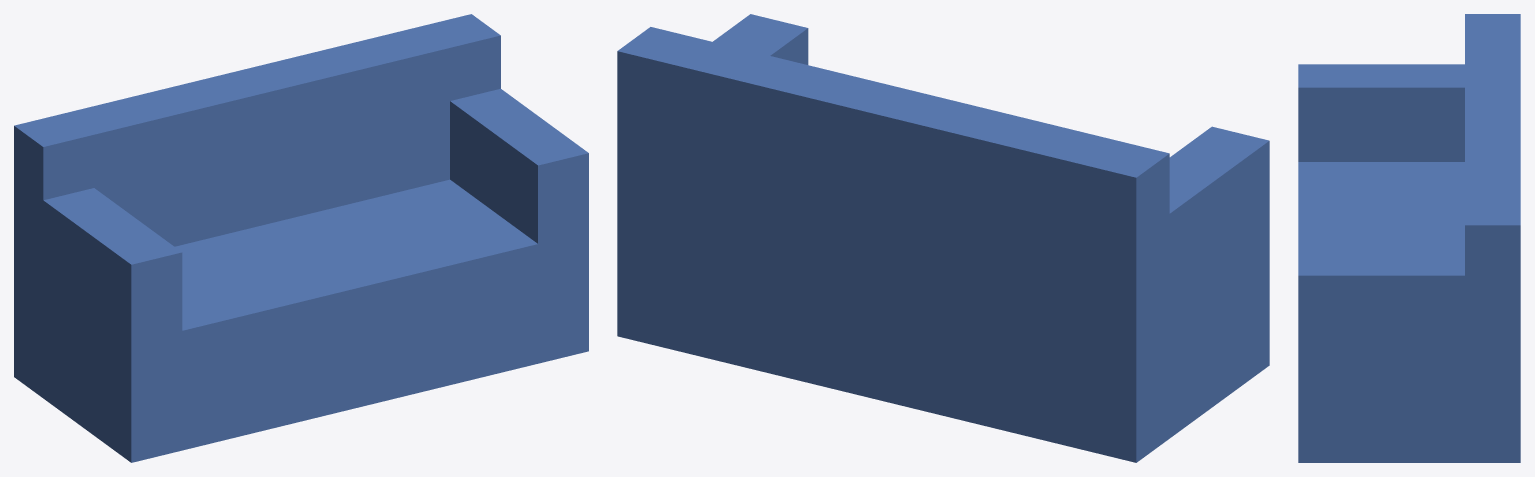
The model's file is falling_sofa.glb.
3 renders of one model, left to right at view 1: azimuth 30°, elevation 25°; view 2: azimuth 150°, elevation 25°; view 3: azimuth 270°, elevation 25°, orthographic. The views are drawn at different scales.
Visible parts, largest first — view 1: sofa_moving_sofa; view 2: sofa_moving_sofa; view 3: sofa_moving_sofa.
Boxes of the visible parts, bbox=[...] form: sofa_moving_sofa: bbox=[14, 14, 588, 462]; sofa_moving_sofa: bbox=[617, 14, 1269, 462]; sofa_moving_sofa: bbox=[1298, 14, 1520, 462].
Bounding box in the file's own units: 1.8 × 0.945 × 0.8.
